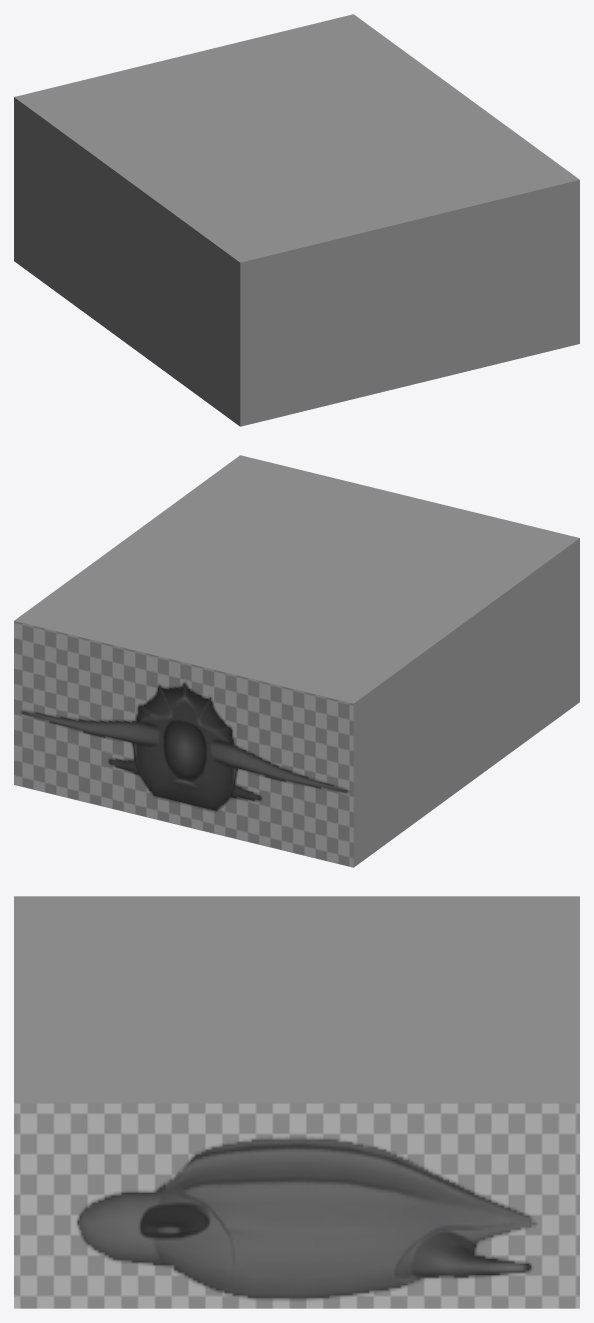
File: Scale Test 01.FBX
3 renders of one model, top to bottom at view 1: azimuth 30°, elevation 25°; view 2: azimuth 150°, elevation 25°; view 3: azimuth 270°, elevation 25°, orthographic. The views are drawn at different scales.
Visible parts, largest first — view 1: Box001; view 2: Box001; view 3: Box001.
Boxes of the visible parts, left/top/right/bottom form: Box001: left=14, top=14, right=579, bottom=426; Box001: left=14, top=455, right=579, bottom=867; Box001: left=14, top=896, right=579, bottom=1308.
Bounding box in the file's own units: 130 × 60 × 150.
Materials: 6 (3 with a texture image).
